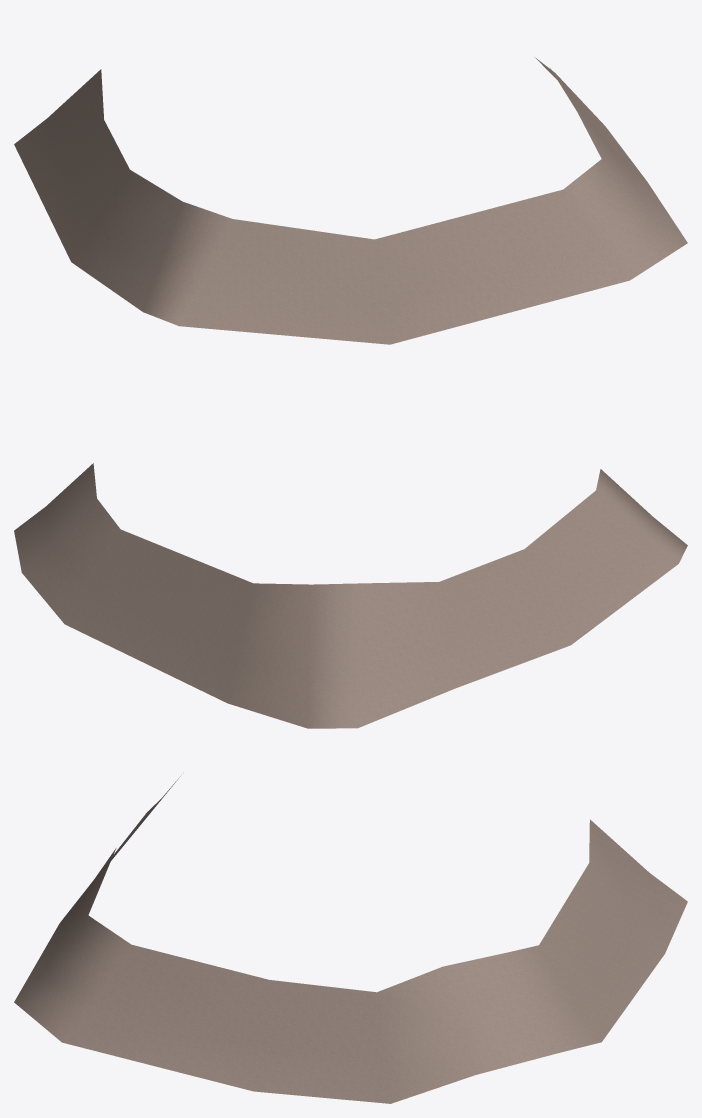
The model's file is kd_stage_136599_10_35_bounded.glb.
3 views of the same model, one above another, from view 1: azimuth 30°, elevation 25°; view 2: azimuth 150°, elevation 25°; view 3: azimuth 270°, elevation 25° (orthographic). The views are drawn at different scales.
Visible parts, largest first — view 1: kd_stage_136599_10_35_bounded; view 2: kd_stage_136599_10_35_bounded; view 3: kd_stage_136599_10_35_bounded.
Part boxes in pixels (x1,y1,x2,y2): kd_stage_136599_10_35_bounded: (14, 57, 687, 344); kd_stage_136599_10_35_bounded: (14, 463, 687, 728); kd_stage_136599_10_35_bounded: (14, 776, 687, 1103).
Bounding box in the file's own units: 261 × 49.01 × 269.
Materials: 1 (1 with a texture image).
